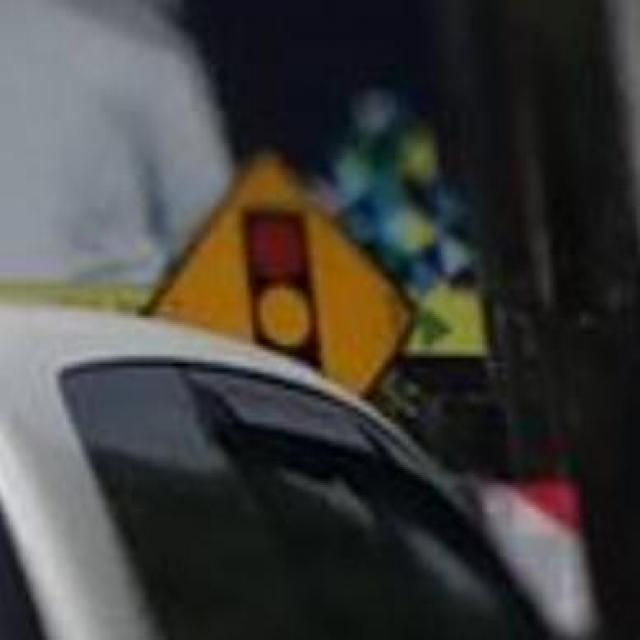traffic sign: (158, 151, 421, 322)
